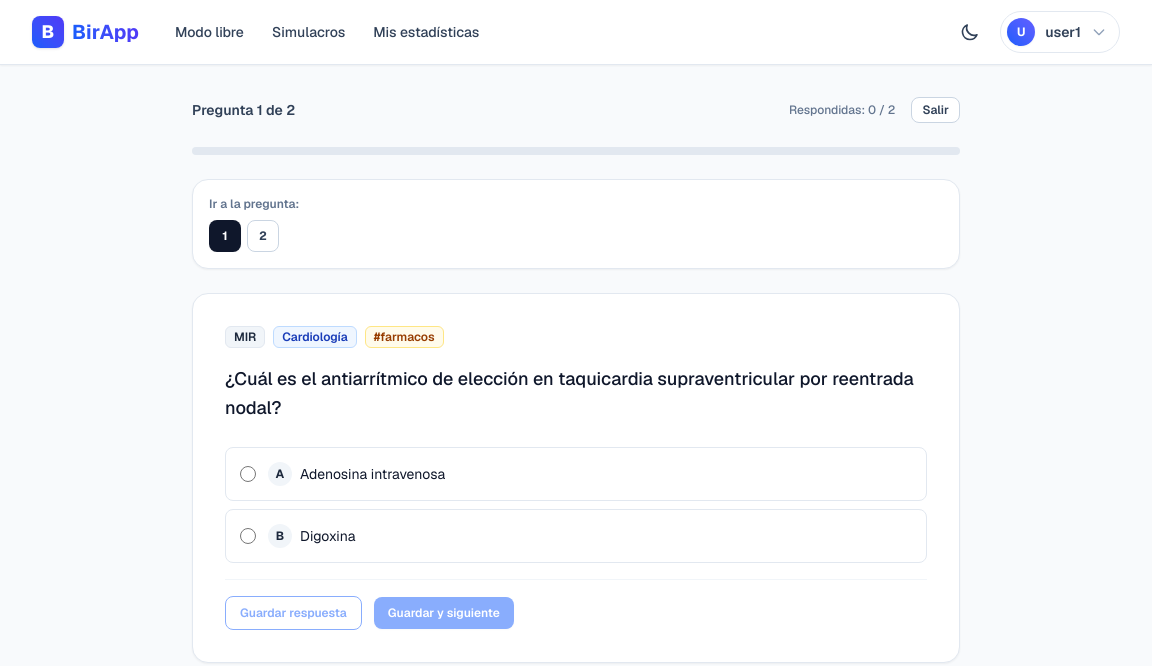
Test: SimulacroAttemptPage (/simulacros/[id]/attempts/[attemptId]) › renders current question, radio options, and handles saving answer
This screenshot has width=1152, height=666.
Expected: the text "Pregunta 1 de 2" is shown, [192,100,295,120]
Expected: the text "¿Cuál es el antiarrítmico de elección en taquicardia supraventricular por reentrada nodal?" is shown, [225,367,914,419]
Select option A
Click the radio button labelled "A Adenosina intravenosa": (248, 474) [240,466,256,482]
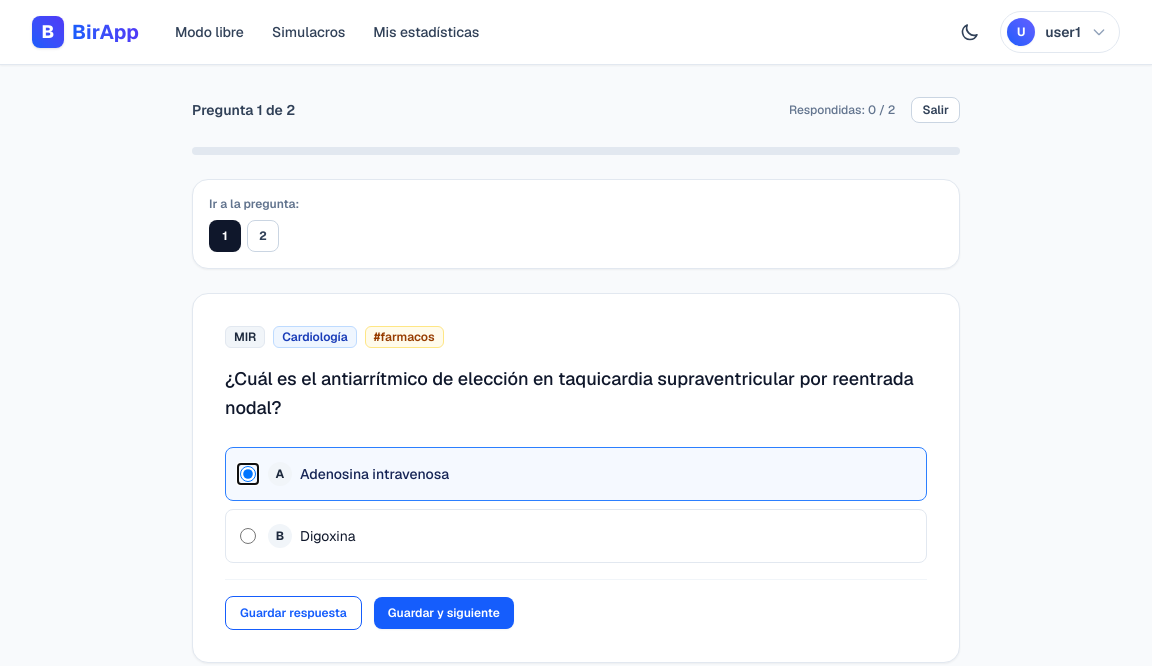
Expected: the radio button labelled "A Adenosina intravenosa" is checked, [240,466,256,482]
Click "Guardar respuesta"
Click the button "Guardar respuesta": (293, 612) [225,596,362,630]
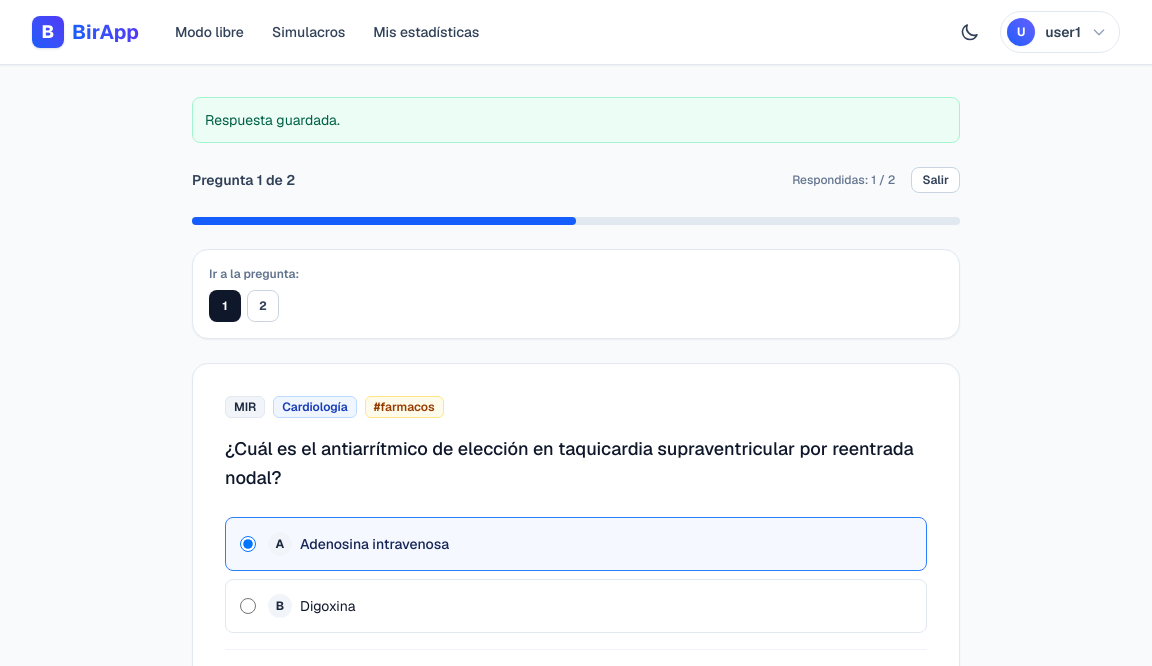
Expected: the text "Respuesta guardada." is shown, [192,97,960,143]
